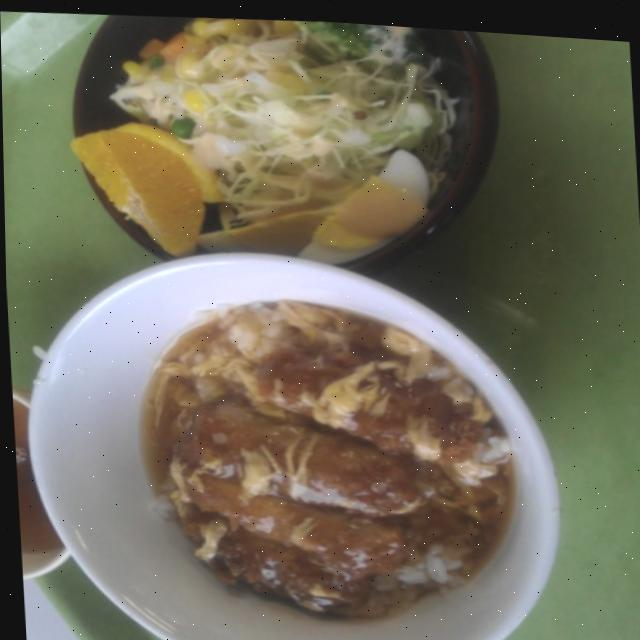蔬菜料理: (60, 3, 502, 301)
